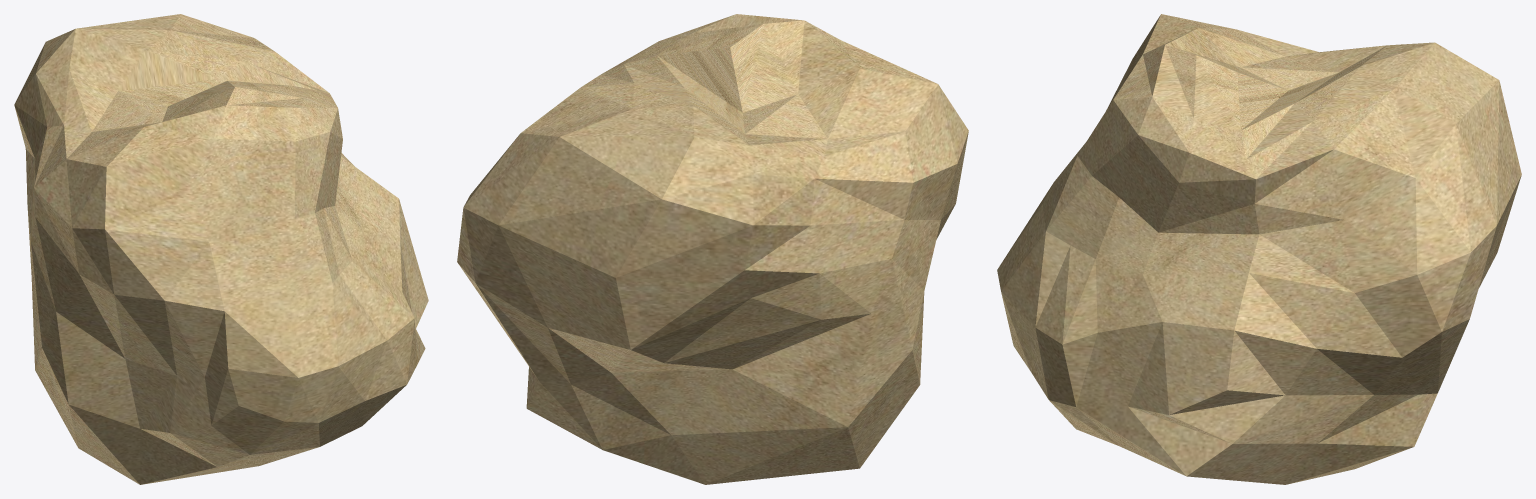
File: Rock2.FBX
3 views of the same model, side by side, from view 1: azimuth 30°, elevation 25°; view 2: azimuth 150°, elevation 25°; view 3: azimuth 270°, elevation 25° (orthographic). The views are drawn at different scales.
Parts seen in each view (by area): view 1: Rock2; view 2: Rock2; view 3: Rock2.
Boxes of the visible parts, <box> form: Rock2: <box>14,14,428,484</box>; Rock2: <box>457,14,968,484</box>; Rock2: <box>997,14,1521,484</box>.
Bounding box in the file's own units: 3.47 × 3.49 × 4.06.
1 material, 1 textured.
